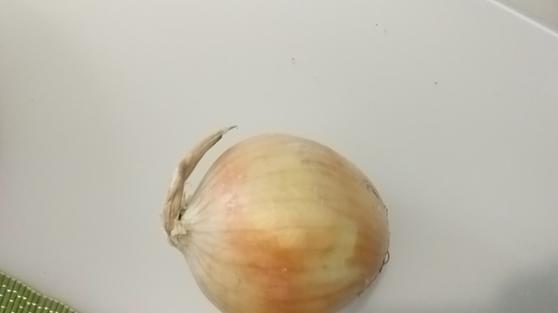onion: (162, 124, 391, 313)
